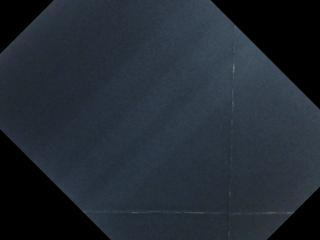crack: (72, 196, 295, 227), (222, 12, 241, 240)
